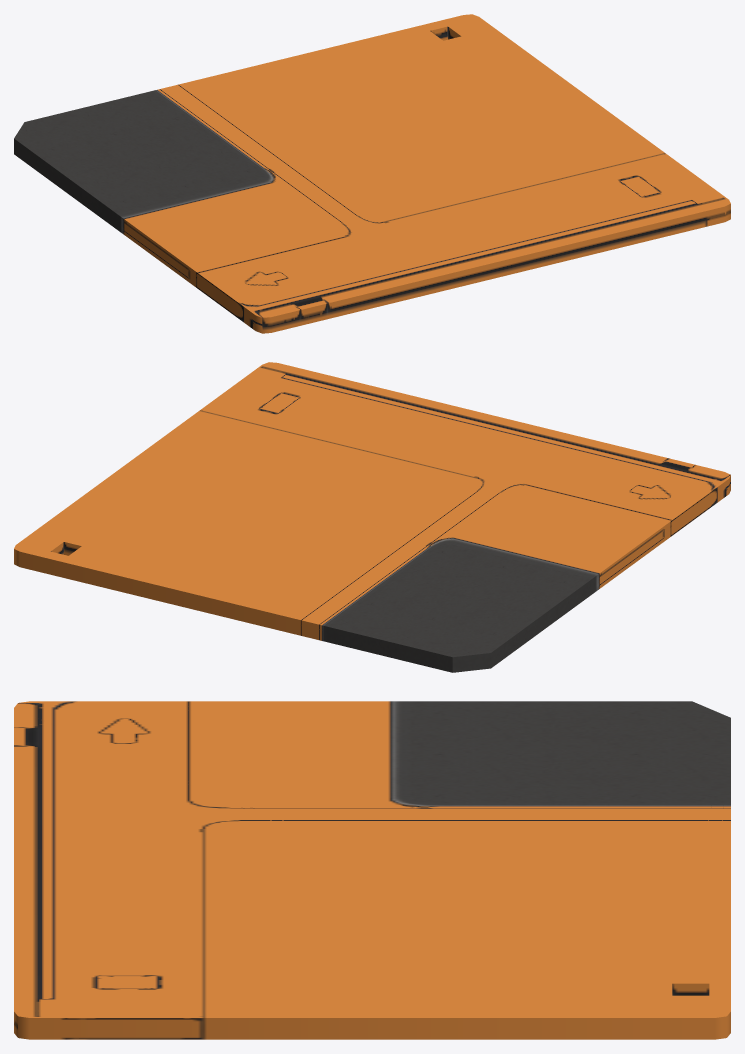
Rendered from floppy_orange.glb.
3 views of the same model, one above another, from view 1: azimuth 30°, elevation 25°; view 2: azimuth 150°, elevation 25°; view 3: azimuth 270°, elevation 25° (orthographic). The views are drawn at different scales.
Visible parts, largest first — view 1: disk1; view 2: disk1; view 3: disk1.
Boxes of the visible parts, <box> form: disk1: <box>14,14,730,333</box>; disk1: <box>14,362,730,672</box>; disk1: <box>14,701,730,1039</box>.
Size of the model in its own units: 3.7 by 0.1181 by 3.54.
1 material, 1 textured.
